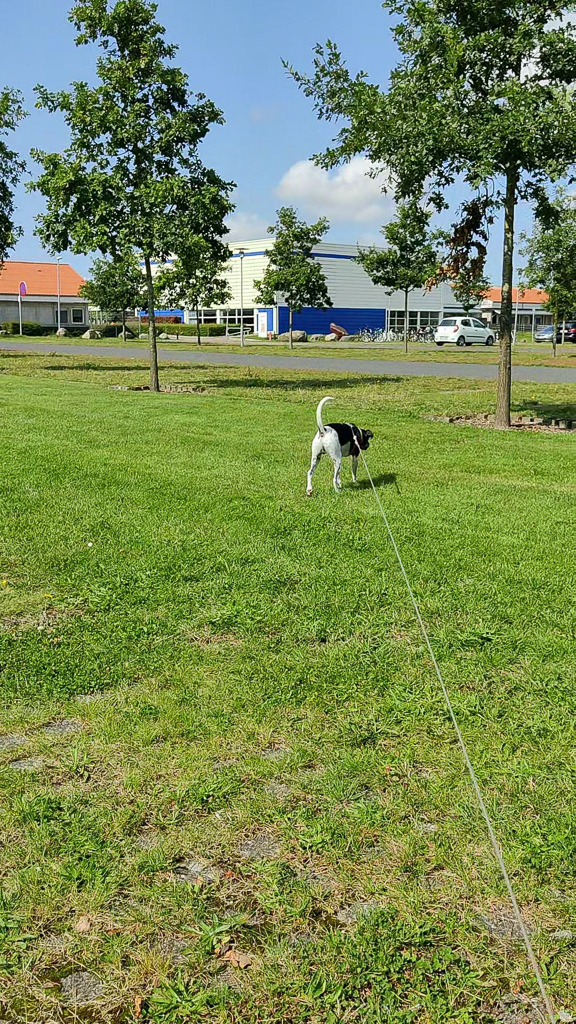Dog: (291, 384, 380, 505)
